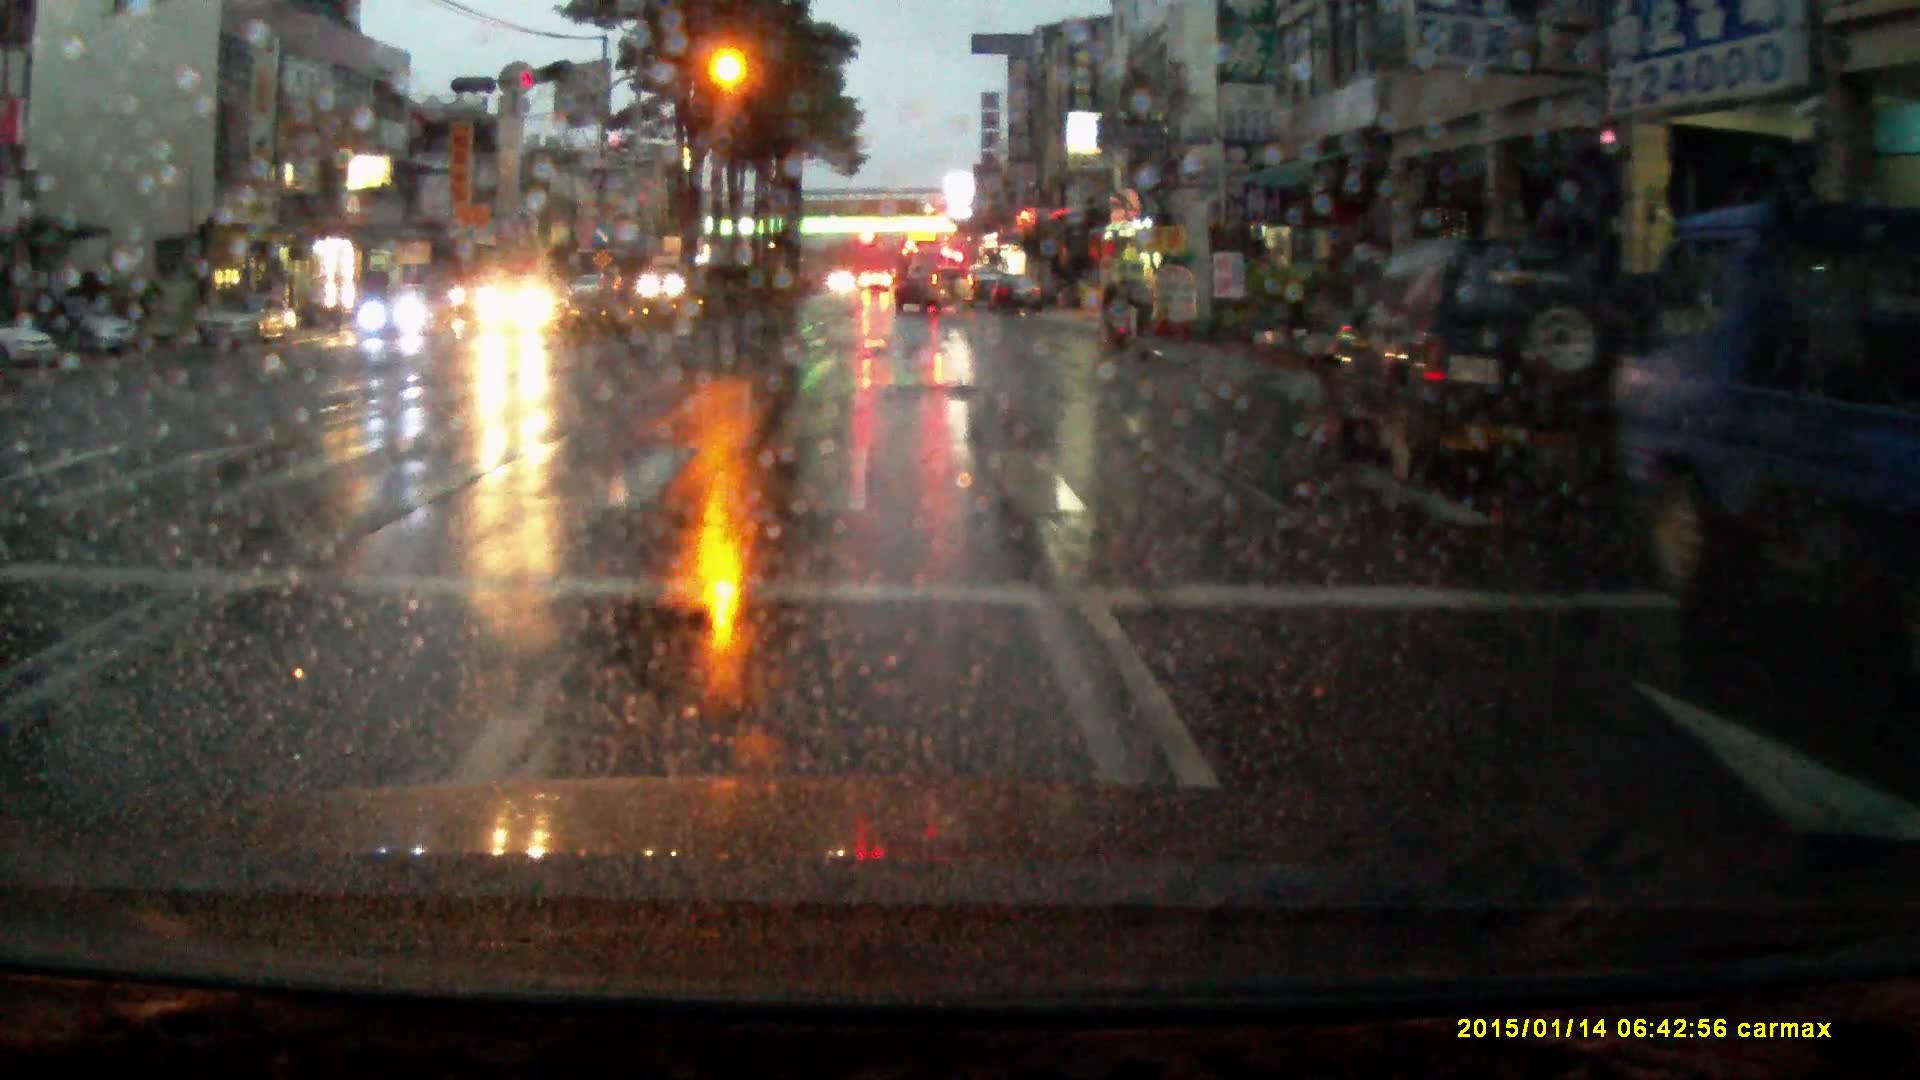vehicle: (1598, 212, 1920, 638), (1316, 247, 1648, 480), (200, 297, 299, 357), (475, 276, 576, 334), (363, 285, 451, 344), (893, 268, 975, 322), (73, 305, 140, 357), (899, 247, 948, 305), (1, 322, 58, 367), (988, 278, 1040, 320), (568, 277, 611, 309), (975, 272, 1005, 313), (858, 272, 895, 299)
